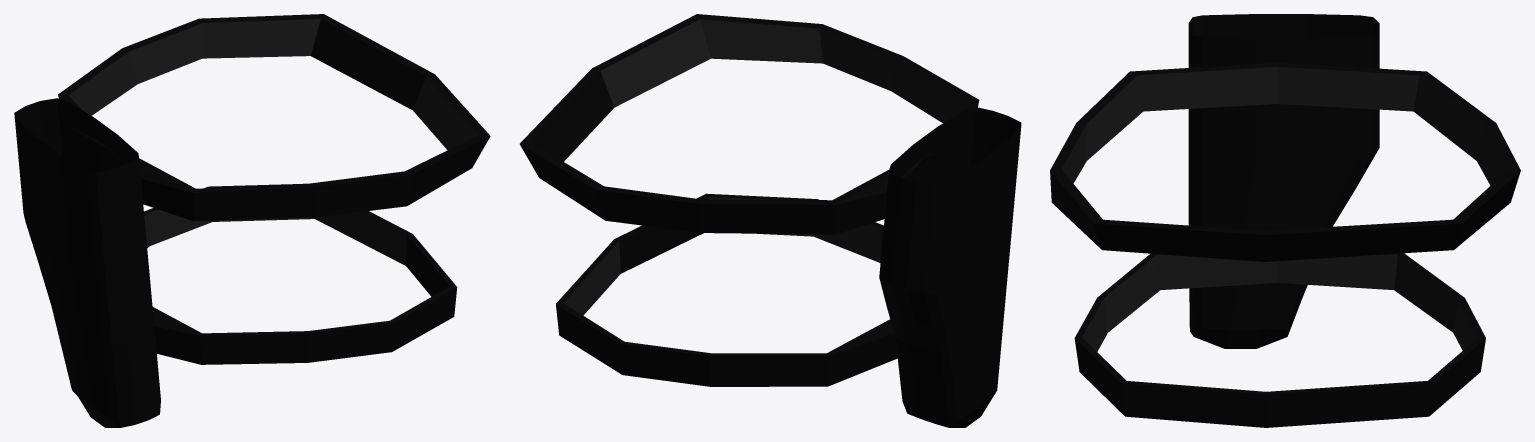
File: Pistol Holster02.fbx
3 views of the same model, side by side, from view 1: azimuth 30°, elevation 25°; view 2: azimuth 150°, elevation 25°; view 3: azimuth 270°, elevation 25° (orthographic). The views are drawn at different scales.
Parts seen in each view (by area): view 1: Pistol Holster; view 2: Pistol Holster; view 3: Pistol Holster.
Part boxes in pixels (x1,y1,x2,y2): Pistol Holster: (14,14,490,427); Pistol Holster: (520,14,1021,427); Pistol Holster: (1050,14,1520,427).
Bounding box in the file's own units: 0.2537 × 0.1769 × 0.2472.
